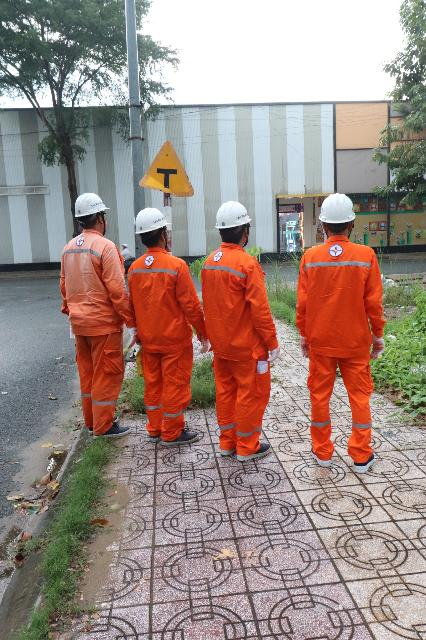gloves: (366, 328, 388, 364), (292, 330, 318, 360), (197, 328, 214, 360), (265, 340, 285, 361), (125, 324, 139, 350)
helmet: (315, 190, 360, 225), (213, 199, 257, 230), (132, 207, 174, 235), (74, 192, 110, 218)
shoes: (234, 441, 274, 462), (82, 413, 120, 433), (161, 430, 206, 446), (310, 445, 334, 470), (354, 450, 376, 477), (94, 426, 134, 439), (215, 436, 239, 456), (145, 430, 162, 445)
